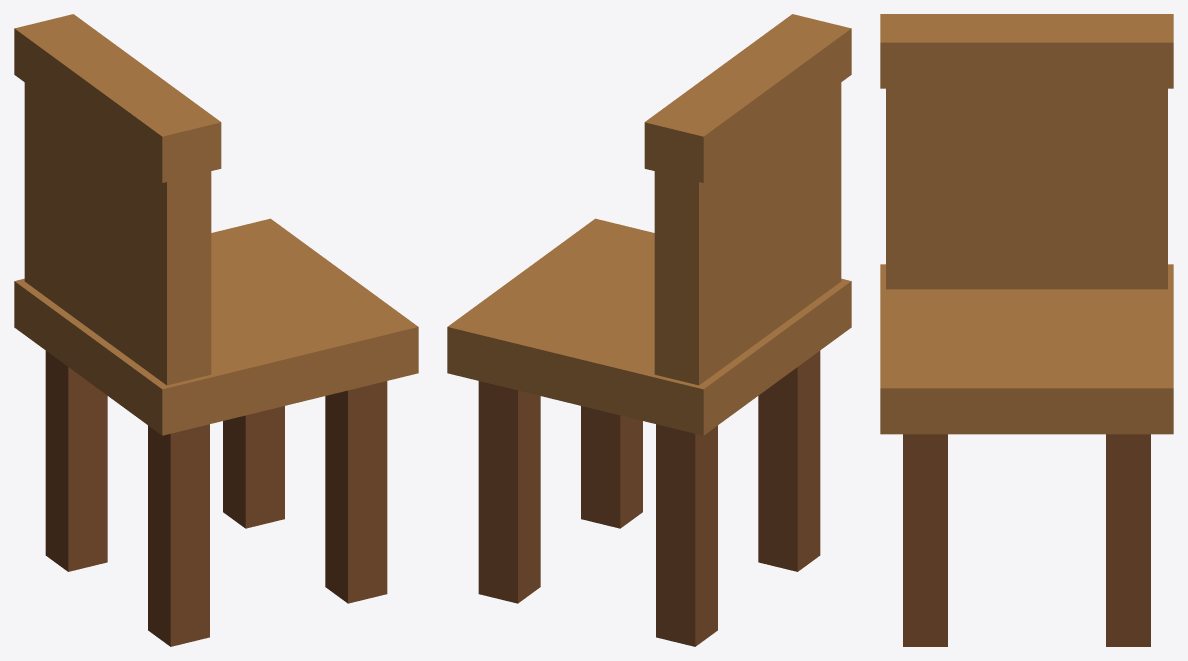
The model's file is example-wooden-chair.glb.
3 renders of one model, left to right at view 1: azimuth 30°, elevation 25°; view 2: azimuth 150°, elevation 25°; view 3: azimuth 270°, elevation 25°, orthographic.
Bounding box in the file's own units: 0.52 × 1.02 × 0.52.
